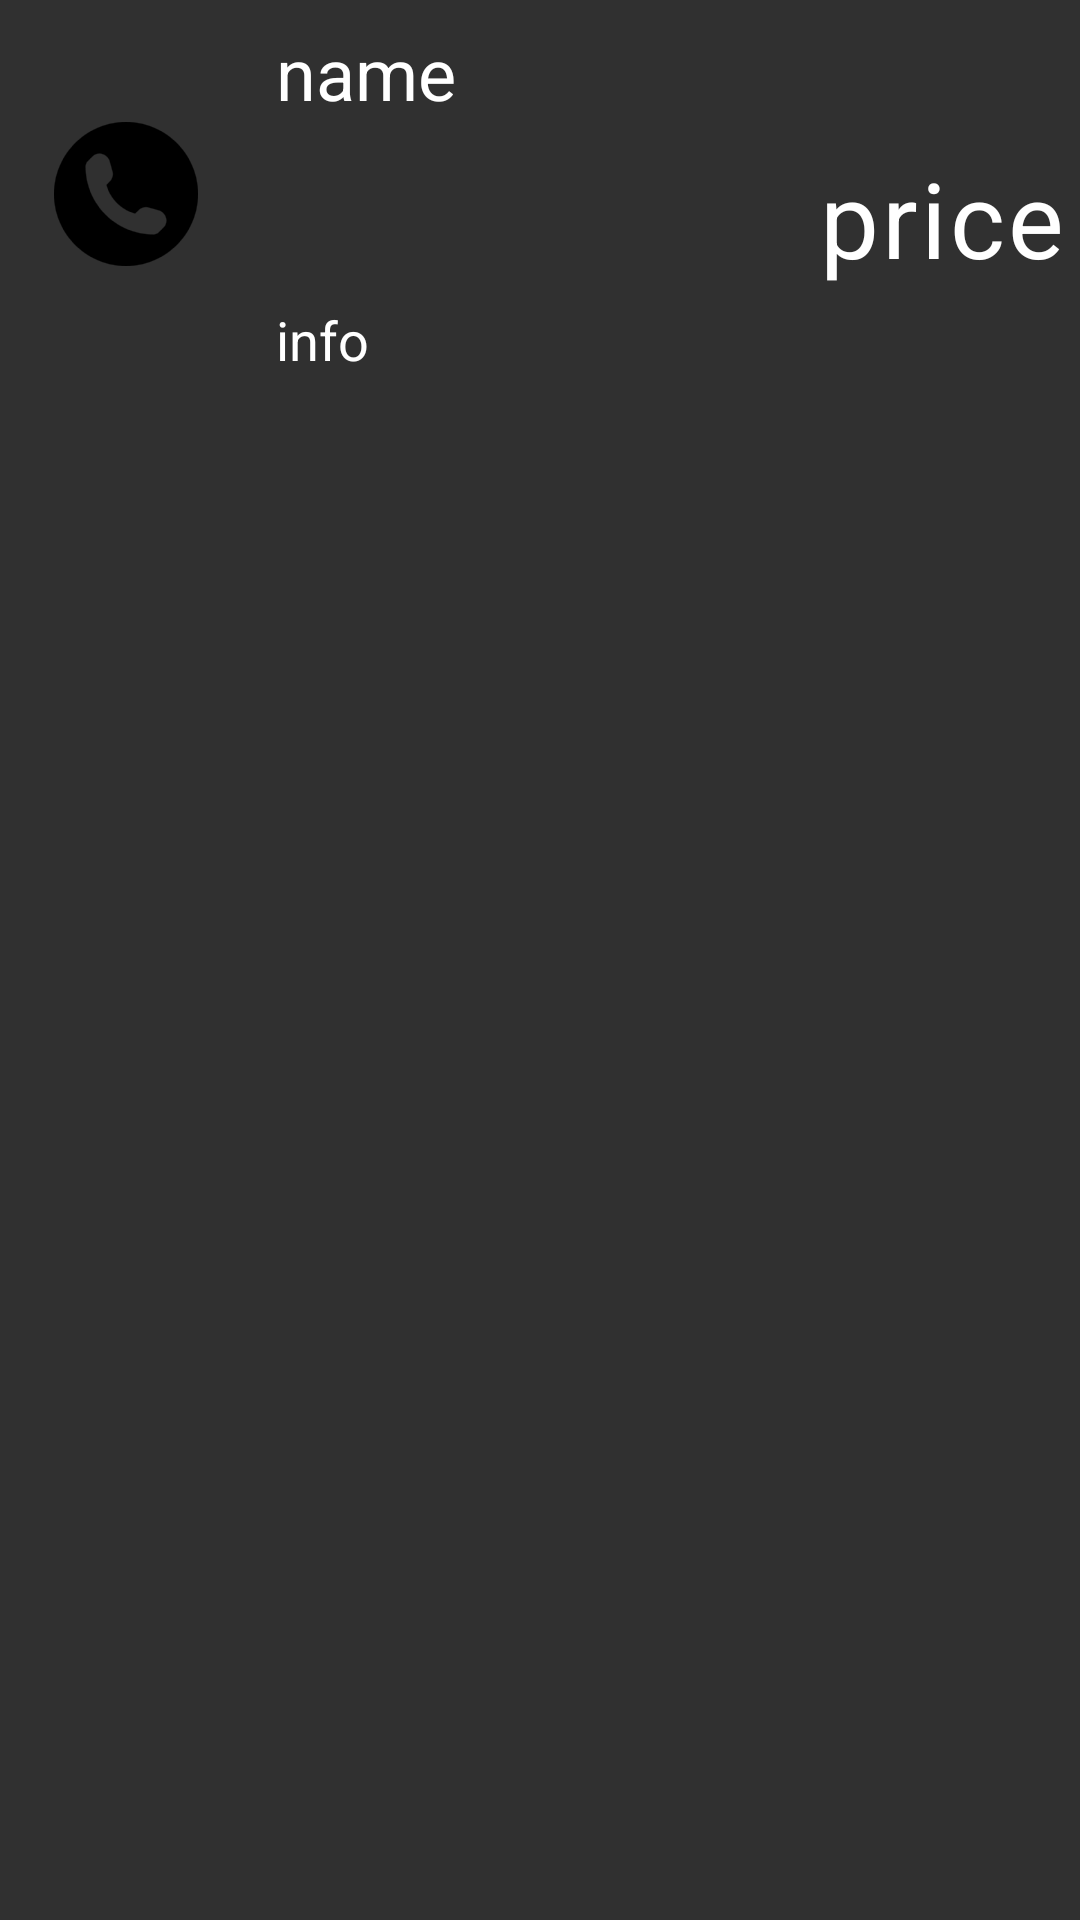

Icon bounding boxes for this 1080px×1920px phone screenshot, format rect(x1, y1, x2, y2):
contacts: rect(54, 122, 198, 266)
